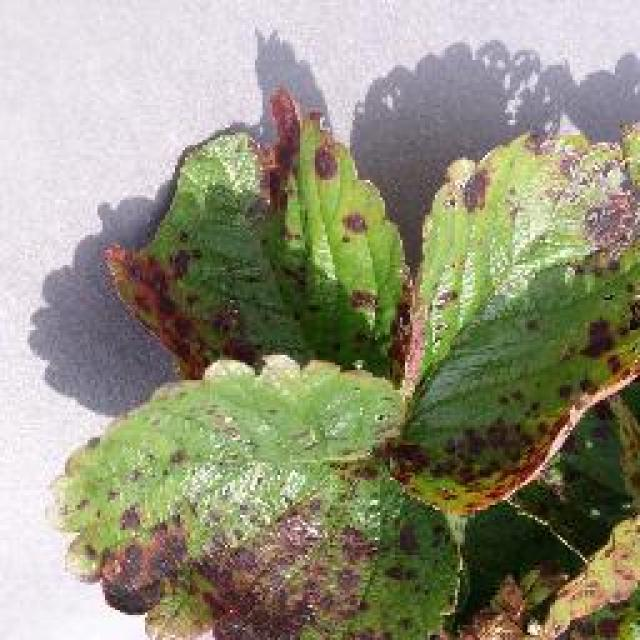Strawberry leaf scorch: (137, 237, 538, 583)
